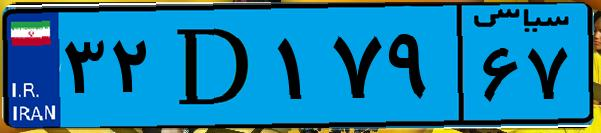1: (270, 28, 330, 110)
2: (110, 28, 158, 98)
3: (57, 26, 110, 100)
6: (475, 38, 525, 113)
7: (330, 28, 385, 110), (525, 38, 570, 115)
9: (385, 28, 445, 110)
D: (158, 12, 270, 120)
